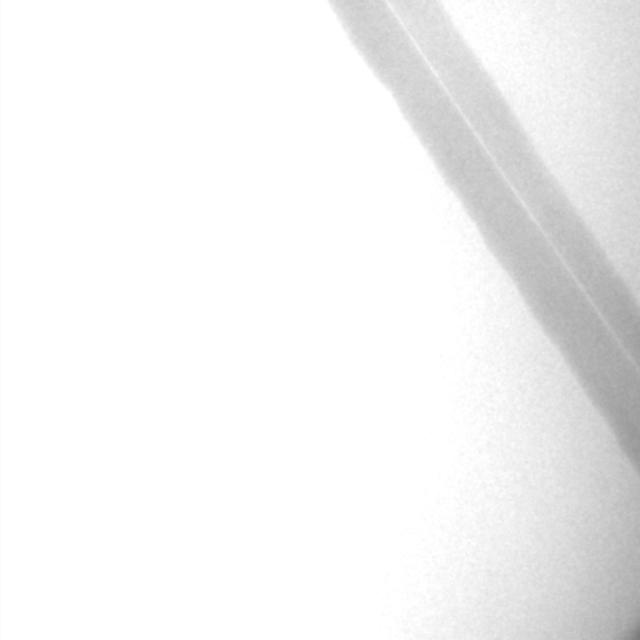broken arc: (385, 4, 636, 365)
